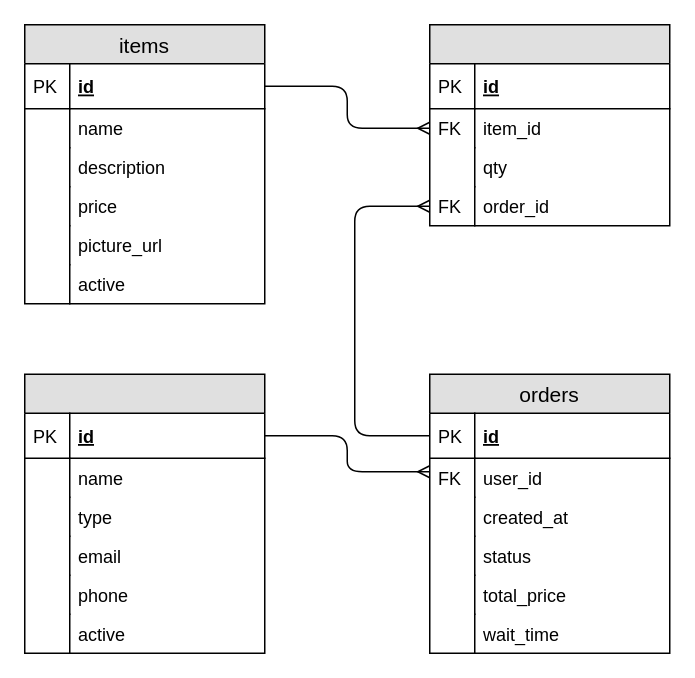
Some shapes in this 695 by 678 pixel diagram are drawn without their labels. The shapes that lost their labels are listed below. From the top down, each one's box as (x1, y1, x2, y2) in pixels, then its label:
(428, 23, 670, 226): order_items
(23, 373, 265, 653): users
